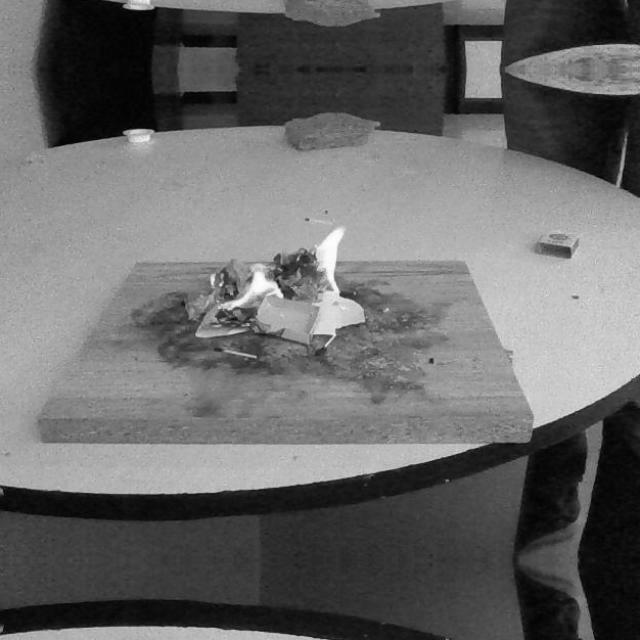smoke: (218, 269, 286, 312), (315, 223, 350, 300)
